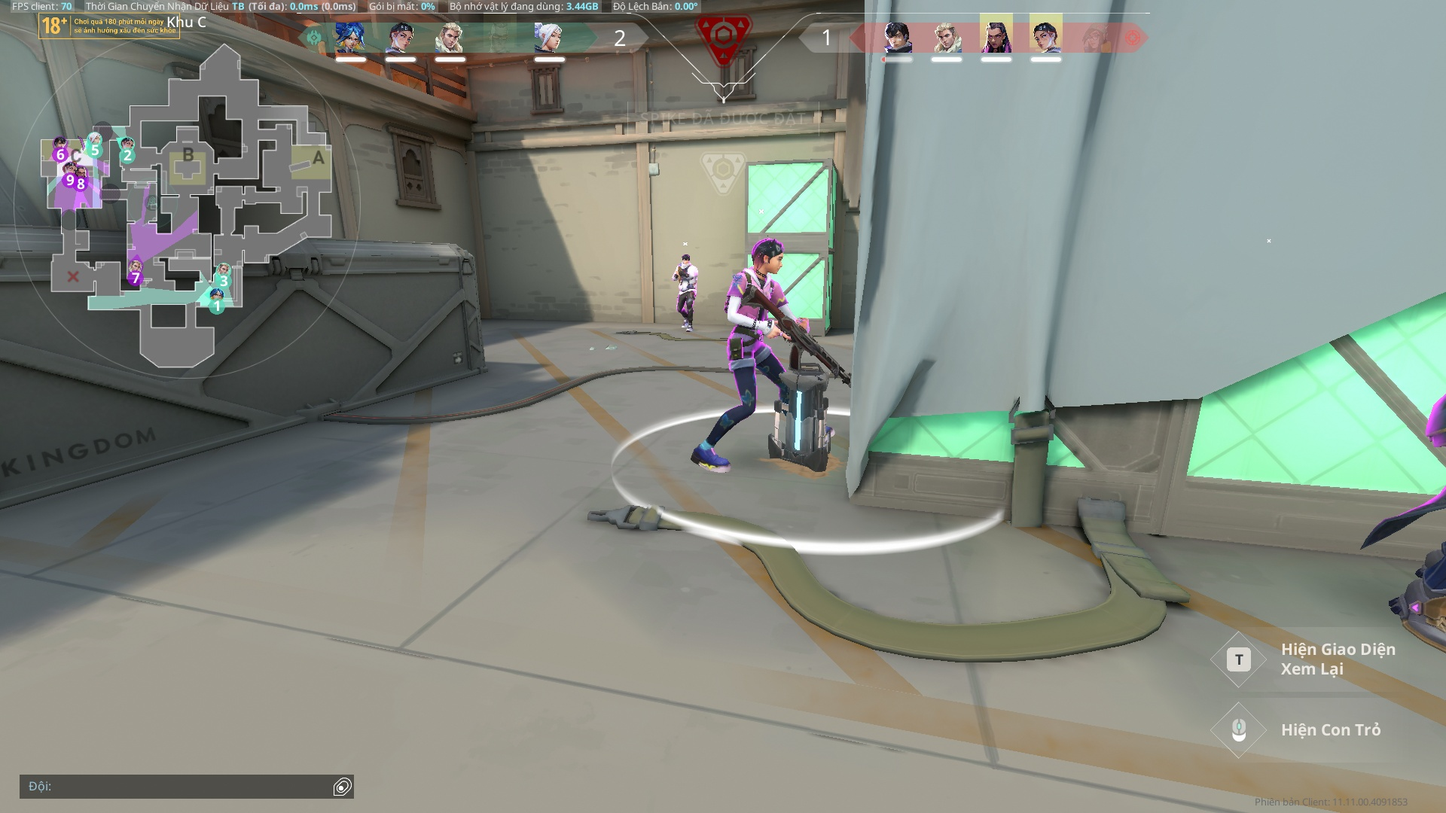body: (728, 269, 784, 326), (675, 262, 699, 288)
head: (751, 237, 784, 273), (681, 253, 692, 264)
